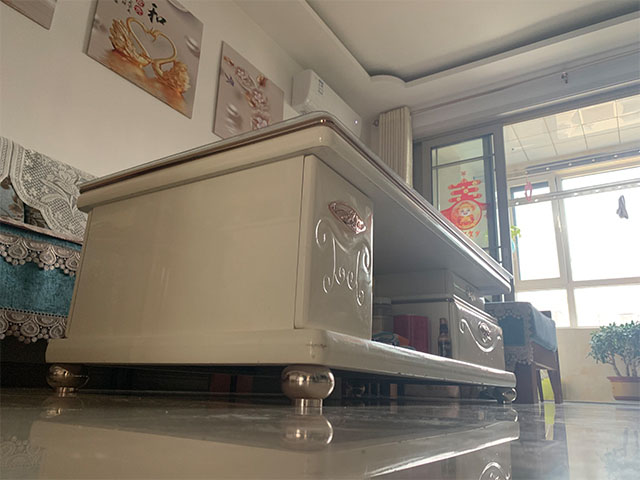table: (43, 108, 520, 408)
